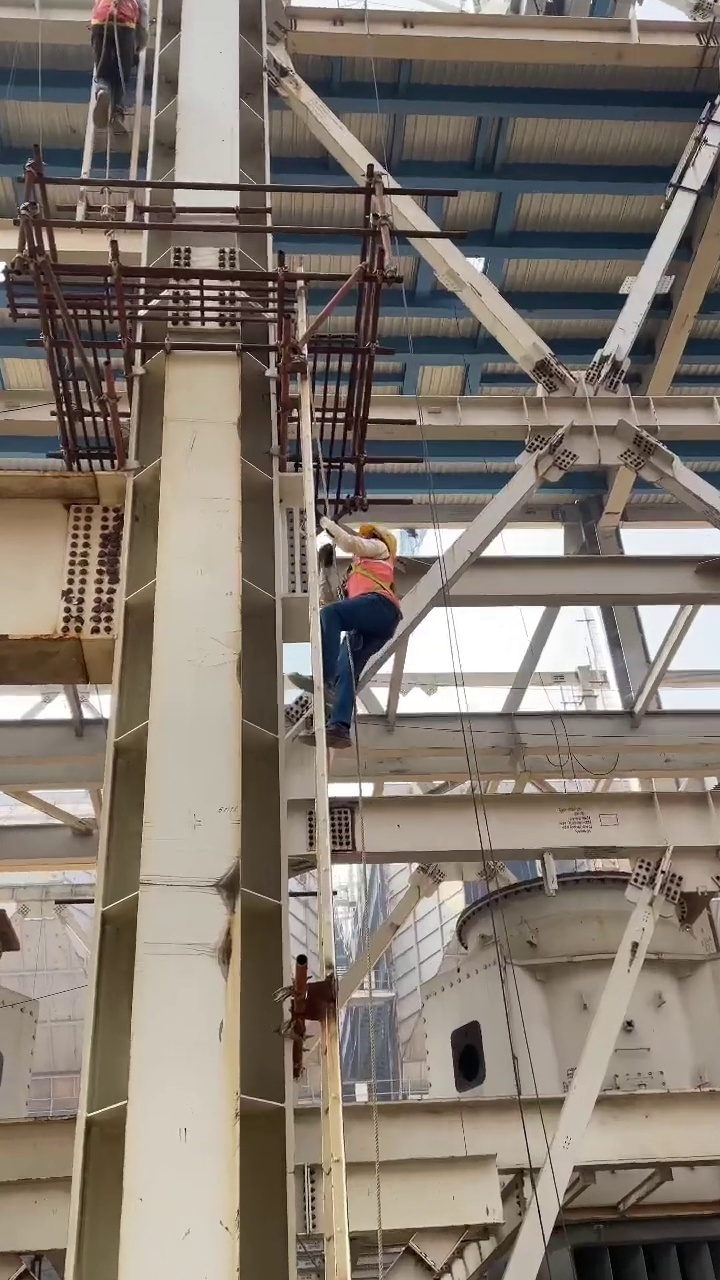Helmet: (359, 520, 399, 550)
Person: (290, 520, 402, 748), (95, 3, 148, 160)
Safety_Harness: (348, 556, 401, 604), (93, 2, 140, 26)
Safety_shoes: (299, 723, 351, 749), (288, 671, 326, 693), (91, 90, 111, 128), (109, 114, 128, 140)
